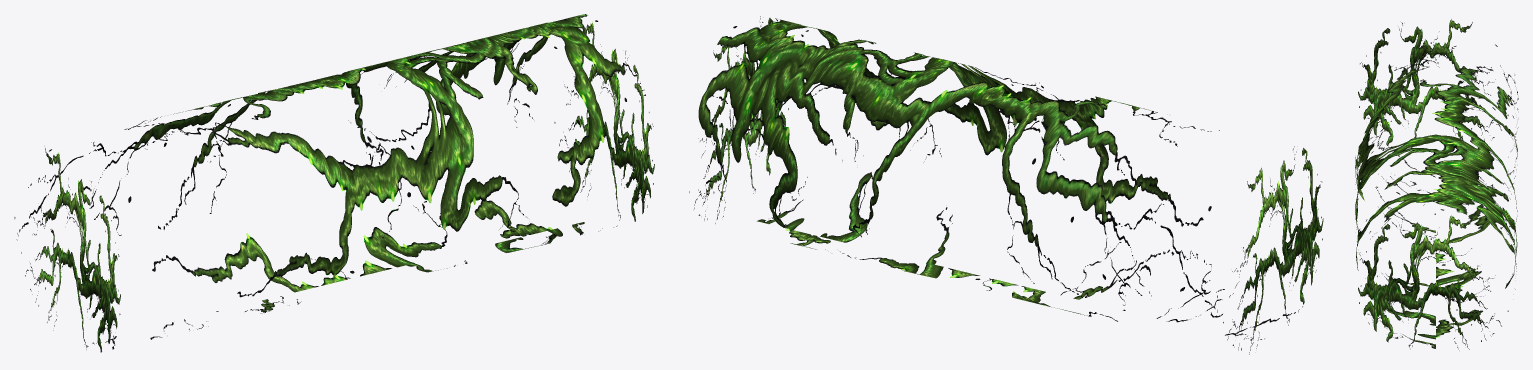
The model's file is Lianas_Cilynder.fbx.
3 views of the same model, side by side, from view 1: azimuth 30°, elevation 25°; view 2: azimuth 150°, elevation 25°; view 3: azimuth 270°, elevation 25° (orthographic). The views are drawn at different scales.
Visible parts, largest first — view 1: Lianas_Cilynder; view 2: Lianas_Cilynder; view 3: Lianas_Cilynder.
Boxes of the visible parts, box(x1,y1,x2,y2) form: Lianas_Cilynder: box(14, 14, 654, 352); Lianas_Cilynder: box(689, 16, 1323, 354); Lianas_Cilynder: box(1355, 18, 1518, 349).
Size of the model in its own units: 548 by 190 by 195.
1 material, 1 textured.
